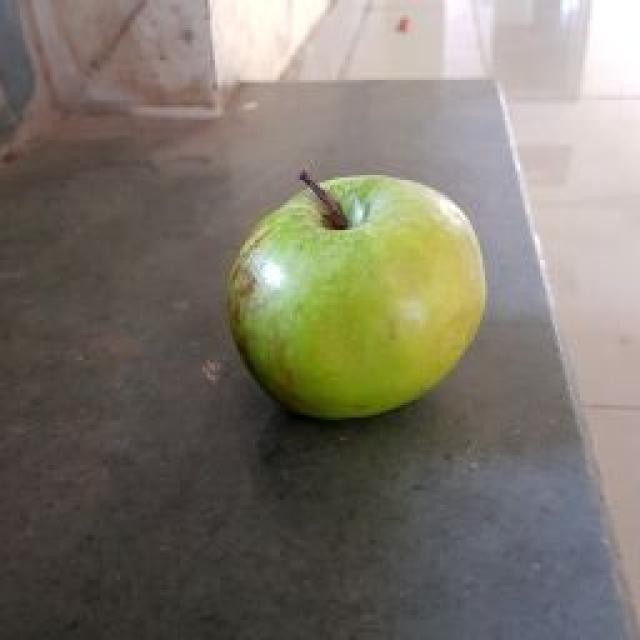Good_Apple: (229, 170, 482, 418)
